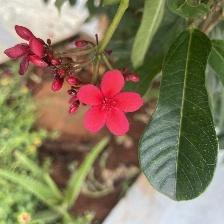jatropha: (77, 69, 145, 138)
